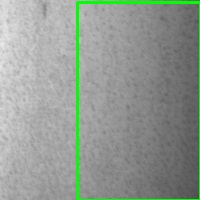pitted_surface: (77, 2, 200, 200)
